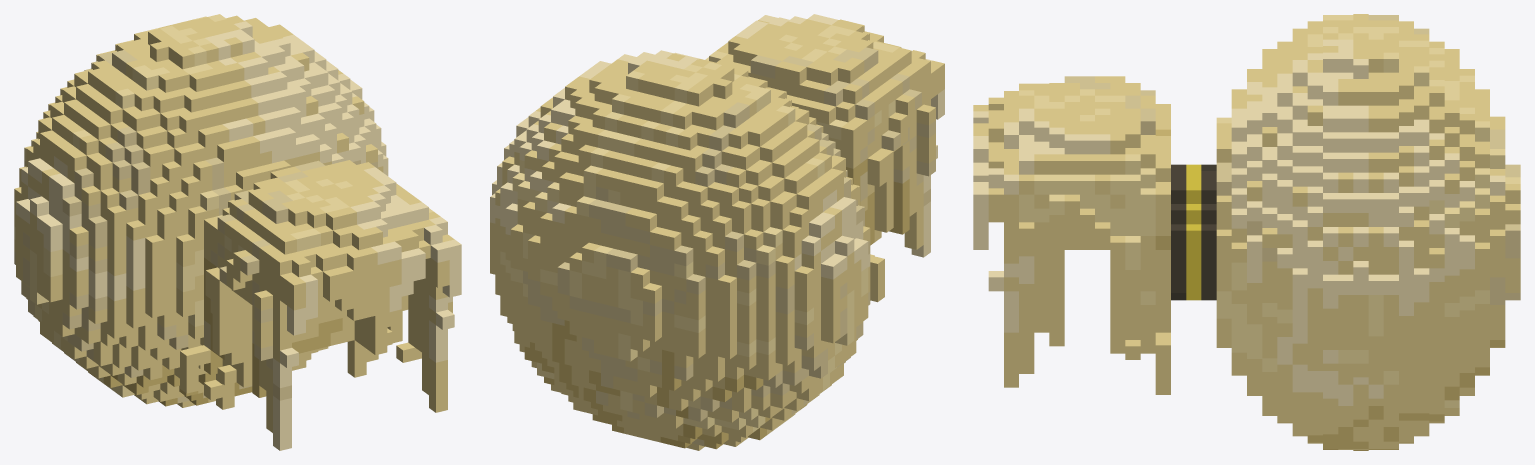
Rendered from rojin_female_hair.glb.
3 renders of one model, left to right at view 1: azimuth 30°, elevation 25°; view 2: azimuth 150°, elevation 25°; view 3: azimuth 270°, elevation 25°, orthographic. The views are drawn at different scales.
Parts seen in each view (by area): view 1: Model.001; view 2: Model.001; view 3: Model.001.
Part boxes in pixels (x1=…): Model.001: x1=14, y1=14, x2=461, y2=450; Model.001: x1=490, y1=14, x2=944, y2=450; Model.001: x1=973, y1=14, x2=1520, y2=450.
Bounding box in the file's own units: 1.2 × 1.2 × 1.55.
1 material, 1 textured.
